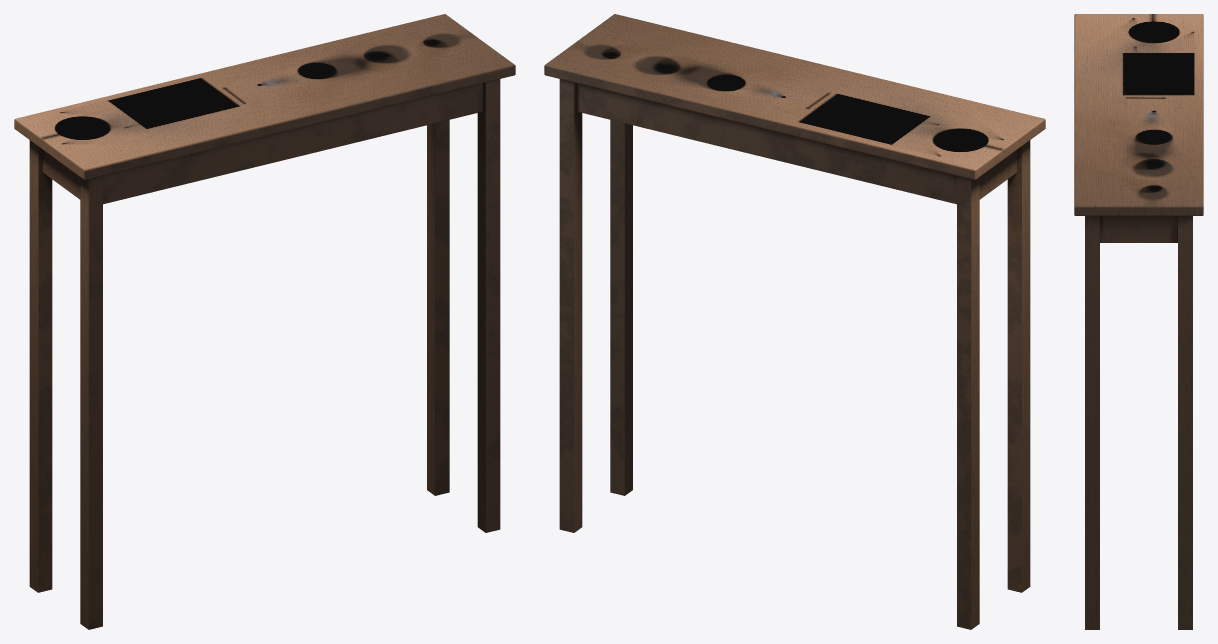
The model's file is 508_hook.glb.
3 renders of one model, left to right at view 1: azimuth 30°, elevation 25°; view 2: azimuth 150°, elevation 25°; view 3: azimuth 270°, elevation 25°, orthographic. The views are drawn at different scales.
Parts seen in each view (by area): view 1: Table; view 2: Table; view 3: Table.
Boxes of the visible parts, left/top/right/bottom form: Table: left=14, top=14, right=515, bottom=629; Table: left=544, top=14, right=1045, bottom=629; Table: left=1074, top=14, right=1203, bottom=629.
Size of what is drawn, in the model's own units: 3 by 3.1 by 0.85.
Materials: 1 (1 with a texture image).
